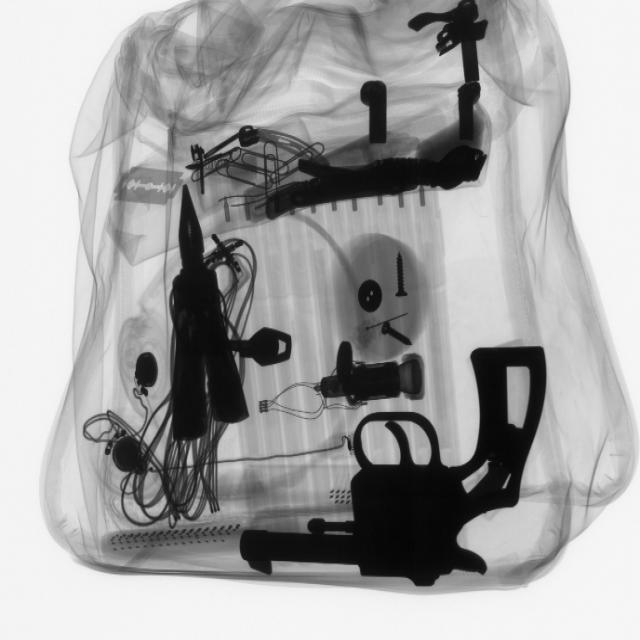BLADE: (110, 165, 188, 211)
GUN: (240, 341, 558, 583)
SCREW: (388, 250, 418, 307), (375, 318, 421, 355)
